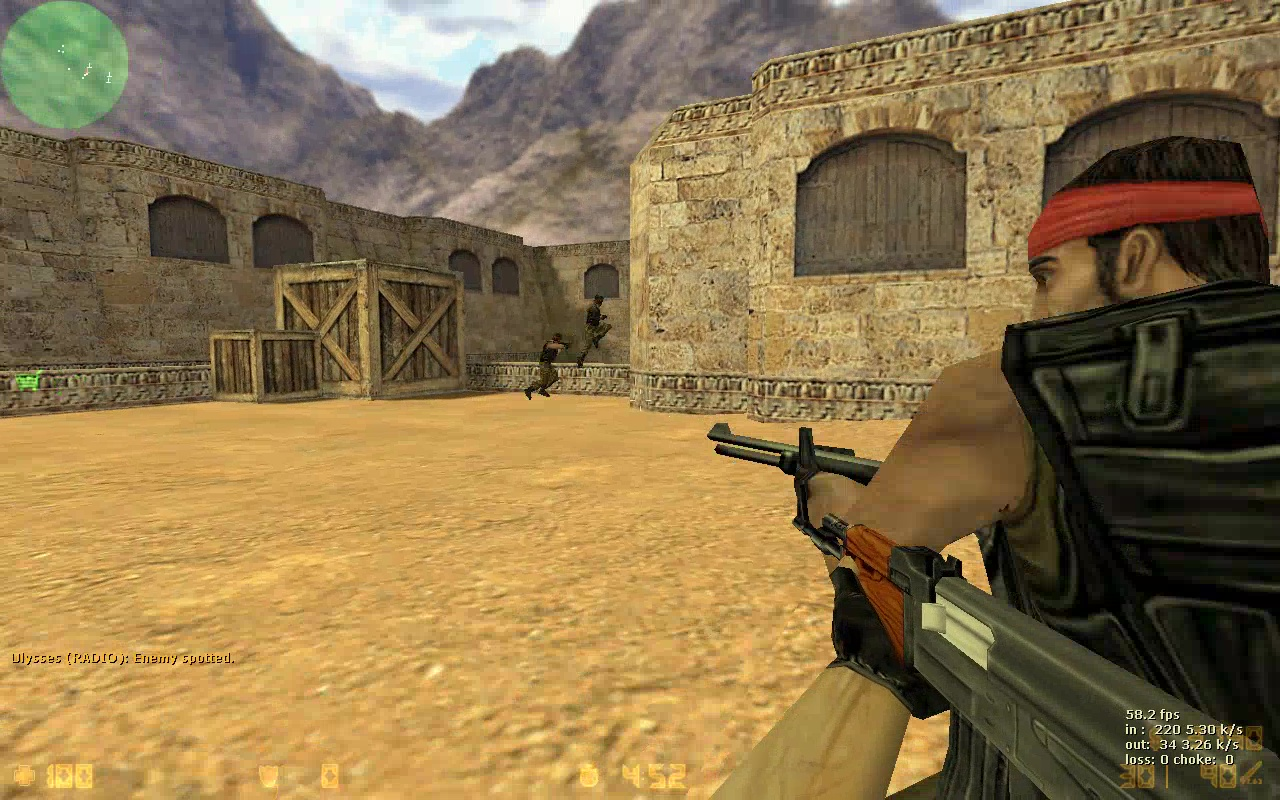terr1: (700, 131, 1280, 797), (521, 332, 572, 397), (576, 295, 614, 368)
